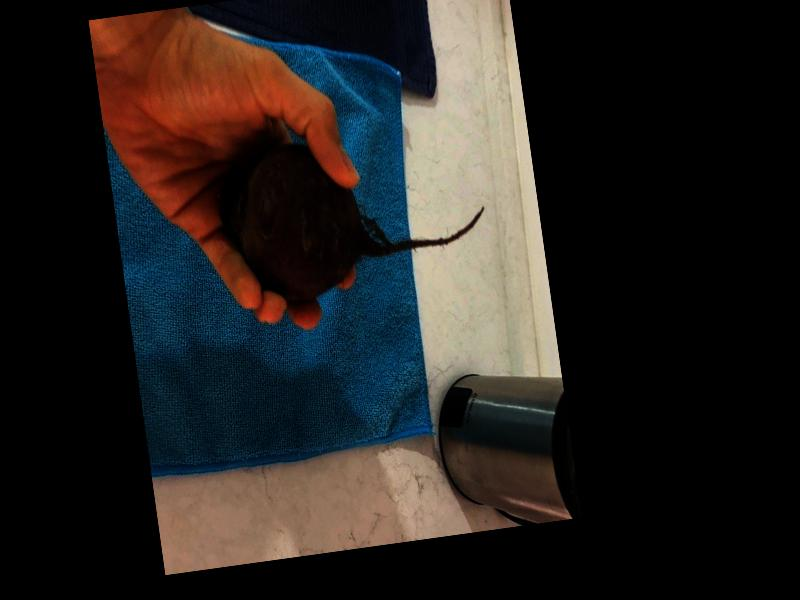Beet: (211, 118, 492, 311)
